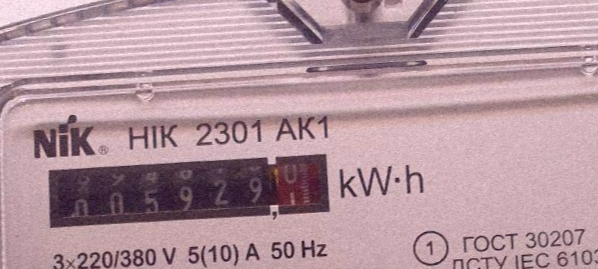0: (105, 187, 126, 216), (68, 192, 91, 216), (279, 160, 300, 184)
2: (208, 173, 230, 208)
5: (140, 184, 160, 213)
9: (244, 171, 266, 205), (173, 180, 196, 212), (72, 172, 91, 191)
screen: (38, 140, 338, 242)
